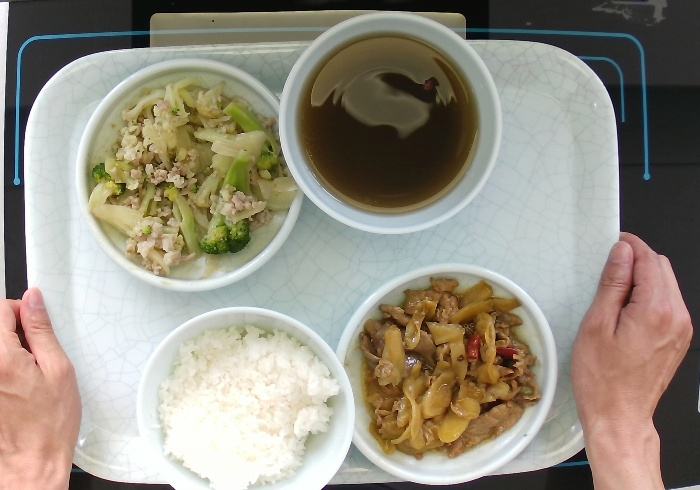JYsf-Fan_Wan: (276, 9, 505, 235), (134, 304, 356, 490)
JYsf-Xiao_Yuan_Pan: (73, 55, 306, 294), (333, 261, 560, 488)
